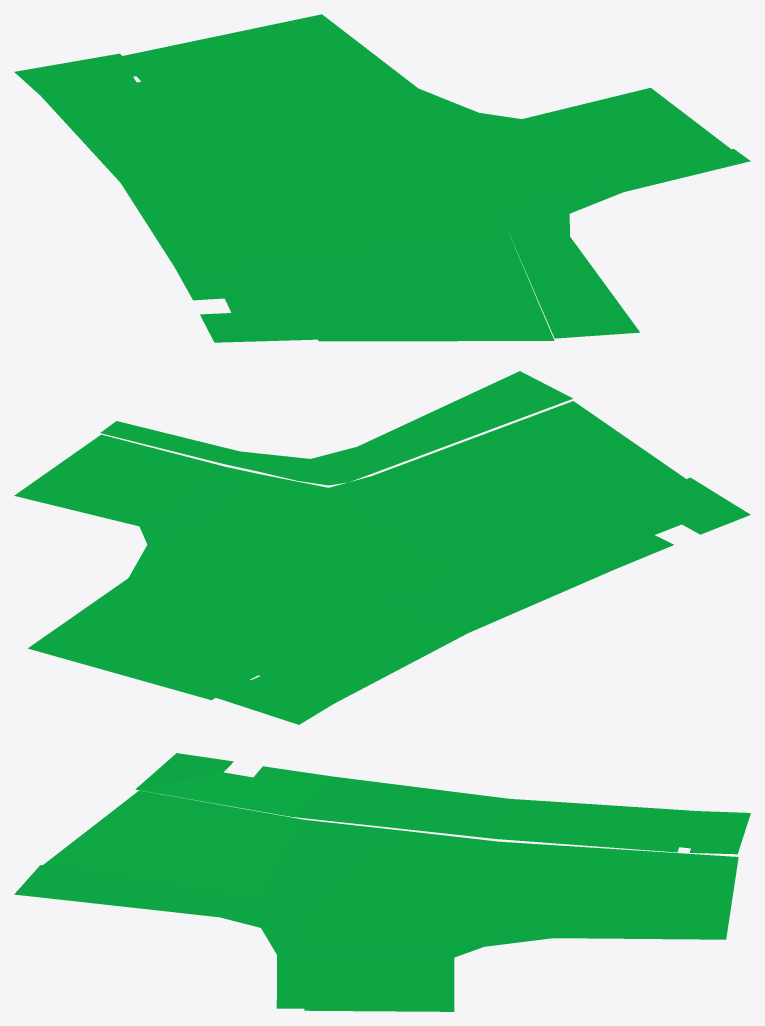
3 renders of one model, top to bottom at view 1: azimuth 30°, elevation 25°; view 2: azimuth 150°, elevation 25°; view 3: azimuth 270°, elevation 25°, orthographic. The views are drawn at different scales.
Parts seen in each view (by area): view 1: o; view 2: o; view 3: o.
Part boxes in pixels (x1=…): o: x1=14, y1=14, x2=750, y2=342; o: x1=14, y1=371, x2=750, y2=724; o: x1=14, y1=753, x2=750, y2=1011.
Bounding box in the file's own units: 55.52 × 0.7728 × 68.73.
